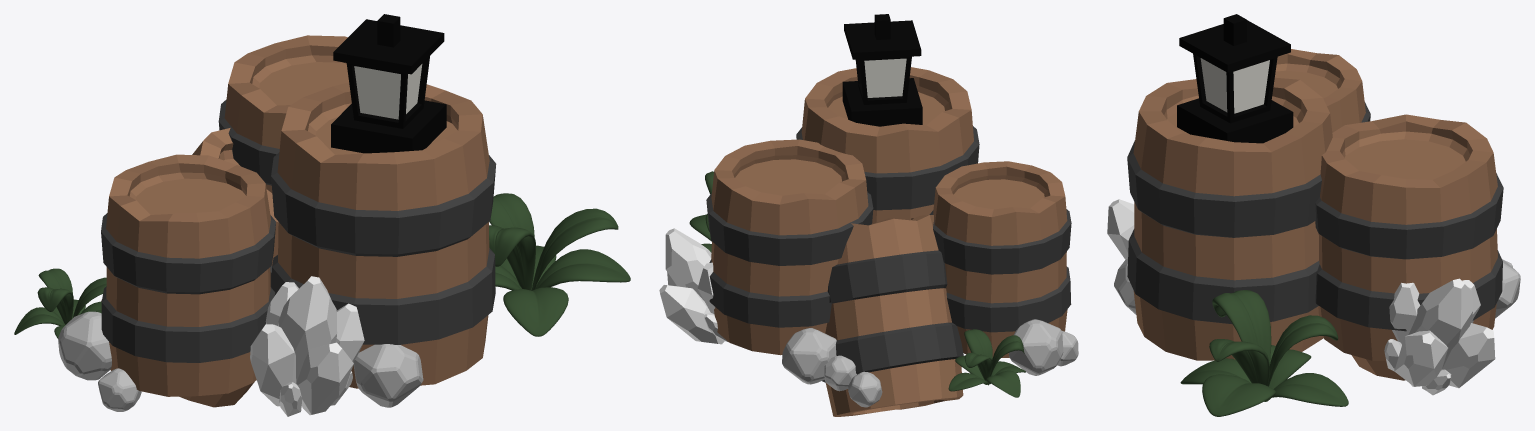
Rendered from design.fbx.
3 renders of one model, left to right at view 1: azimuth 30°, elevation 25°; view 2: azimuth 150°, elevation 25°; view 3: azimuth 270°, elevation 25°, orthographic. The views are drawn at different scales.
Parts seen in each view (by area): view 1: barrel.012, barrel.014, Cube.014, Icosphere.023, Plane.007, barrel.013, rocks-mid.001, Plane.008, barrel.015; view 2: barrel.013, barrel.014, barrel.015, barrel.012, Cube.014, rocks-mid.001, Icosphere.024, Plane.008, Plane.007; view 3: barrel.012, barrel.013, Plane.007, Cube.014, Icosphere.024, barrel.014, rocks-mid.001, Icosphere.023, barrel.015.
Boxes of the visible parts, x1=… form: barrel.012: x1=271, y1=82, x2=496, y2=388; barrel.014: x1=101, y1=154, x2=275, y2=396; Cube.014: x1=331, y1=14, x2=446, y2=153; Icosphere.023: x1=250, y1=276, x2=364, y2=416; Plane.007: x1=489, y1=193, x2=630, y2=336; barrel.013: x1=218, y1=35, x2=348, y2=192; rocks-mid.001: x1=58, y1=311, x2=423, y2=411; Plane.008: x1=14, y1=268, x2=106, y2=338; barrel.015: x1=101, y1=128, x2=278, y2=407; barrel.013: x1=706, y1=139, x2=873, y2=355; barrel.014: x1=929, y1=161, x2=1071, y2=357; barrel.015: x1=822, y1=215, x2=963, y2=416; barrel.012: x1=796, y1=67, x2=979, y2=223; Cube.014: x1=842, y1=14, x2=922, y2=126; rocks-mid.001: x1=782, y1=319, x2=1078, y2=407; Icosphere.024: x1=659, y1=228, x2=727, y2=344; Plane.008: x1=948, y1=329, x2=1025, y2=397; Plane.007: x1=689, y1=171, x2=713, y2=252; barrel.012: x1=1127, y1=77, x2=1332, y2=360; barrel.013: x1=1315, y1=114, x2=1503, y2=360; Plane.007: x1=1180, y1=290, x2=1348, y2=416; Cube.014: x1=1177, y1=14, x2=1293, y2=143; Icosphere.024: x1=1384, y1=278, x2=1495, y2=395; barrel.014: x1=1275, y1=49, x2=1370, y2=132; rocks-mid.001: x1=1114, y1=258, x2=1520, y2=318; Icosphere.023: x1=1107, y1=199, x2=1134, y2=259; barrel.015: x1=1351, y1=355, x2=1405, y2=380.
Size of the model in its own units: 4.07 by 3.18 by 3.07.
